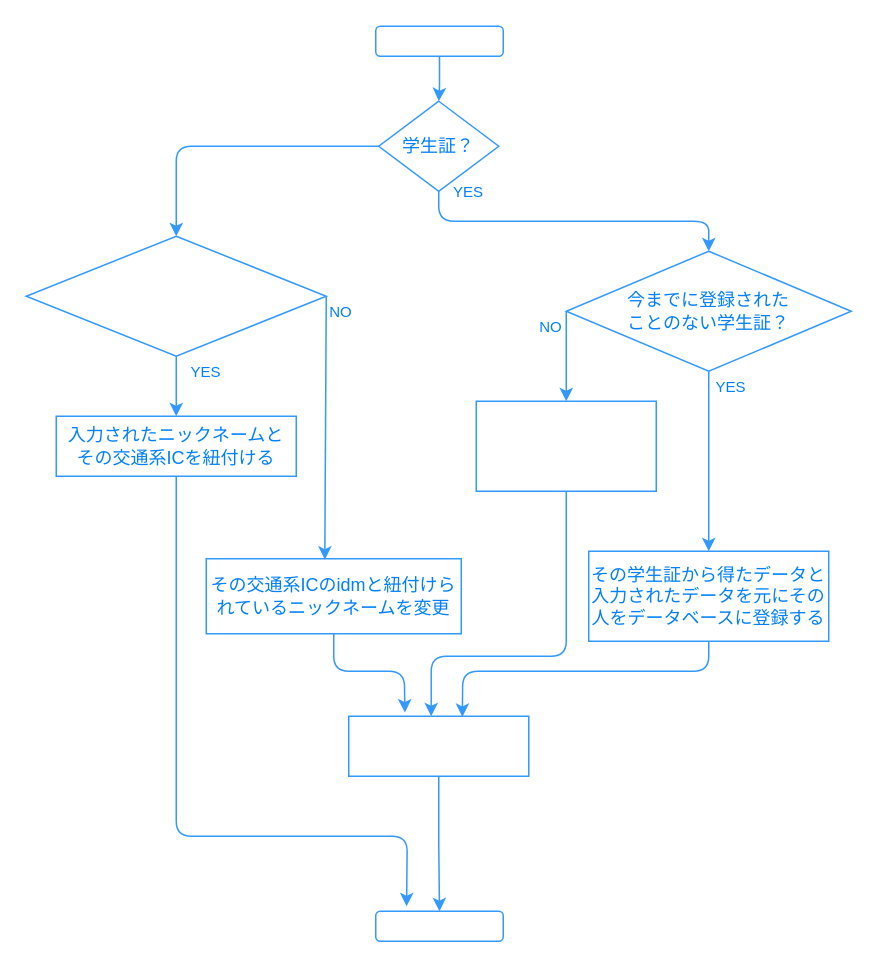
The diagram is 878 pixels wide and 968 high, and some of its shapes have lost their labels. Here are the shapes that lost their labels. From the top down, the centre of each, then its label:
At (x=175, y=295): "今までに登録された ことのない交通系IC？".
At (x=565, y=445): "その学生証のIDと紐付けられているニックネームを変更".
At (x=438, y=745): "slackにメッセージを送信".
